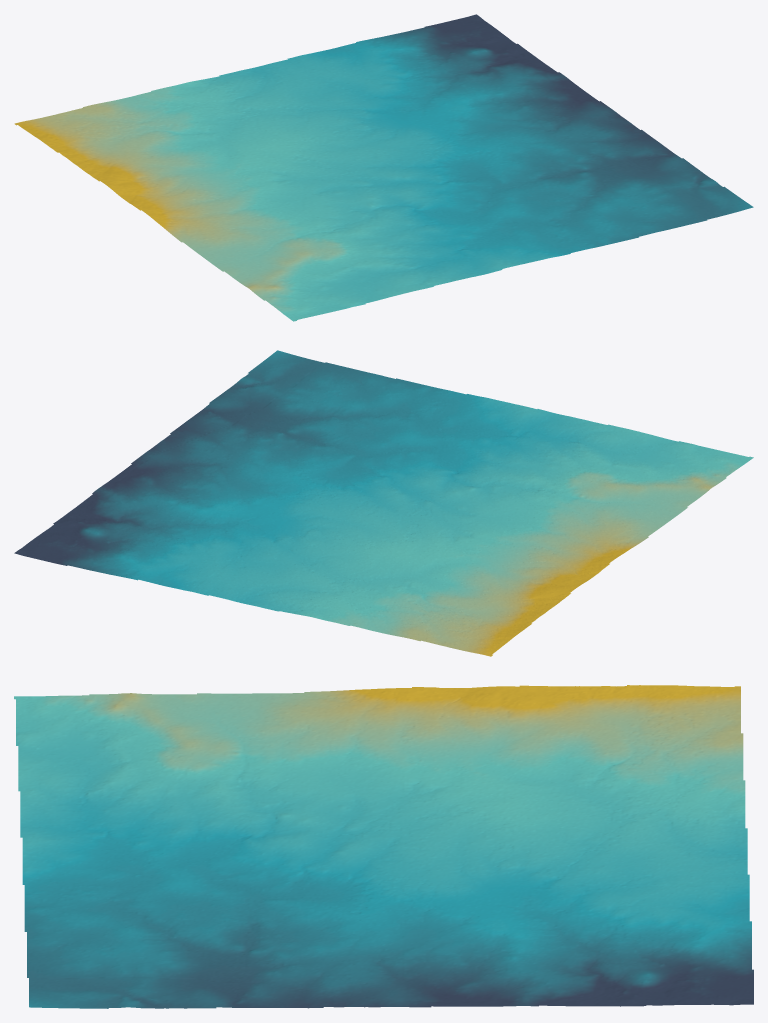
File: terrain.glb
3 views of the same model, one above another, from view 1: azimuth 30°, elevation 25°; view 2: azimuth 150°, elevation 25°; view 3: azimuth 270°, elevation 25° (orthographic). The views are drawn at different scales.
Visible parts, largest first — view 1: terrain-chunk-0004, terrain-chunk-0001, terrain-chunk-0003, terrain-chunk-0000, terrain-chunk-0007, terrain-chunk-0005, terrain-chunk-0002, terrain-chunk-0006, terrain-chunk-0008; view 2: terrain-chunk-0004, terrain-chunk-0001, terrain-chunk-0003, terrain-chunk-0000, terrain-chunk-0007, terrain-chunk-0005, terrain-chunk-0002, terrain-chunk-0006, terrain-chunk-0008; view 3: terrain-chunk-0004, terrain-chunk-0003, terrain-chunk-0001, terrain-chunk-0000, terrain-chunk-0007, terrain-chunk-0005, terrain-chunk-0006, terrain-chunk-0002, terrain-chunk-0008.
Boxes of the visible parts, <box> form: terrain-chunk-0004: <box>257,91,535,207</box>; terrain-chunk-0001: <box>359,167,633,280</box>; terrain-chunk-0003: <box>82,131,357,246</box>; terrain-chunk-0000: <box>189,207,457,321</box>; terrain-chunk-0007: <box>190,40,432,131</box>; terrain-chunk-0005: <box>434,66,653,166</box>; terrain-chunk-0002: <box>536,139,753,238</box>; terrain-chunk-0006: <box>14,82,255,169</box>; terrain-chunk-0008: <box>364,14,547,91</box>; terrain-chunk-0004: <box>200,452,481,567</box>; terrain-chunk-0001: <box>303,379,581,492</box>; terrain-chunk-0003: <box>379,493,652,606</box>; terrain-chunk-0000: <box>482,419,753,532</box>; terrain-chunk-0007: <box>129,527,377,616</box>; terrain-chunk-0005: <box>84,424,302,527</box>; terrain-chunk-0002: <box>183,350,401,451</box>; terrain-chunk-0006: <box>311,568,553,656</box>; terrain-chunk-0008: <box>14,501,198,578</box>; terrain-chunk-0004: <box>289,806,564,927</box>; terrain-chunk-0003: <box>289,685,564,808</box>; terrain-chunk-0001: <box>20,807,289,928</box>; terrain-chunk-0000: <box>14,693,289,809</box>; terrain-chunk-0007: <box>564,806,751,927</box>; terrain-chunk-0005: <box>289,926,564,1008</box>; terrain-chunk-0006: <box>564,685,745,807</box>; terrain-chunk-0002: <box>24,927,289,1008</box>; terrain-chunk-0008: <box>564,926,753,1006</box>.
Bounding box in the file's own units: 2064 × 45.38 × 2064.
